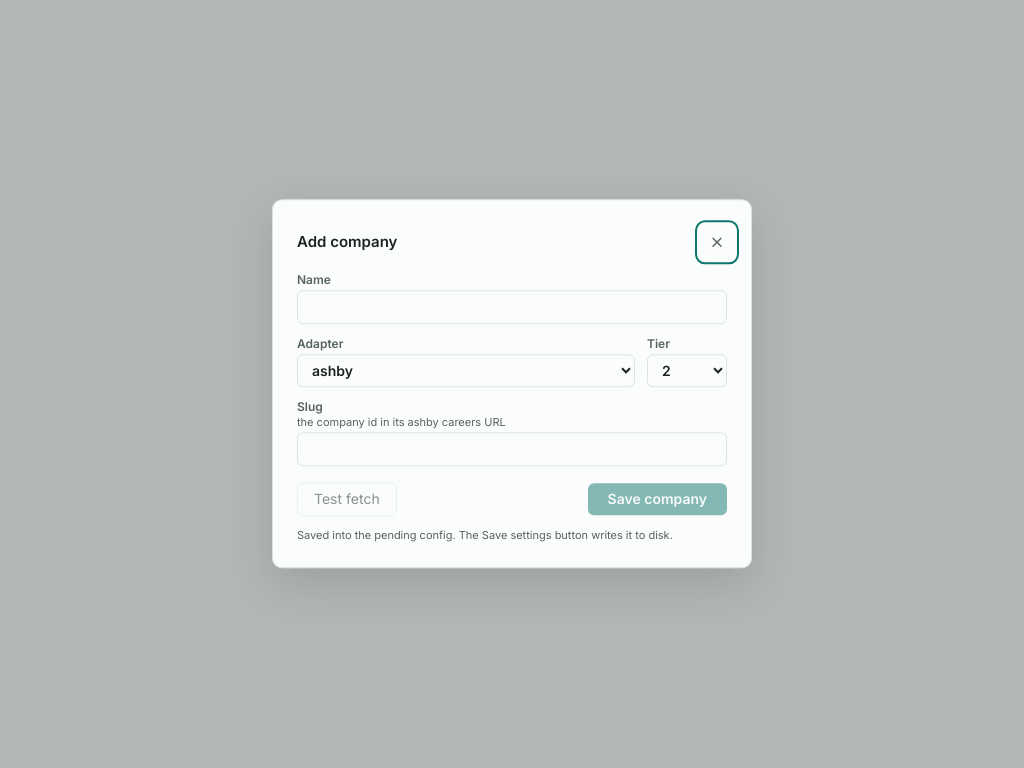
CompanyDialog › shows slug field for ashby and switches to workday fields
Expected: the field labelled "Slug" is shown, x1=297 y1=432 x2=727 y2=466
Select "workday" in the dropdown labelled "Adapter" at (466, 371), box x1=297 y1=354 x2=635 y2=387
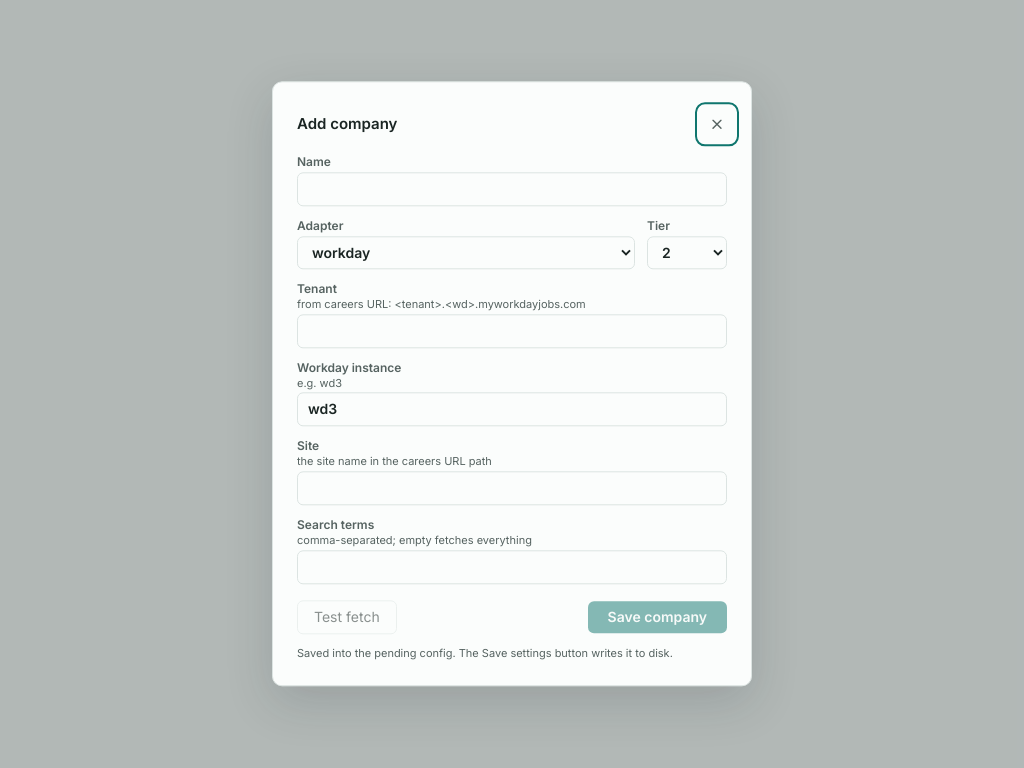
Expected: the label "Slug" is gone
Expected: the field labelled "Tenant" is shown, x1=297 y1=314 x2=727 y2=348
Expected: the field labelled "Workday instance" is shown, x1=297 y1=393 x2=727 y2=427
